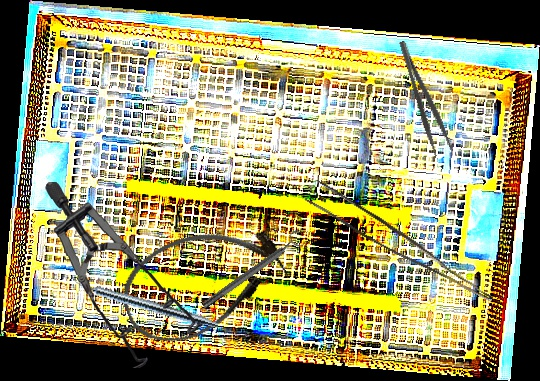Cannula: (108, 206, 297, 358)
Dressing Forceps: (395, 36, 455, 158)
Fixation Ring: (197, 228, 308, 314)
Handpiece: (68, 275, 220, 331)
Speculum: (43, 174, 207, 373)
Tissue Forceps: (301, 178, 505, 303)
